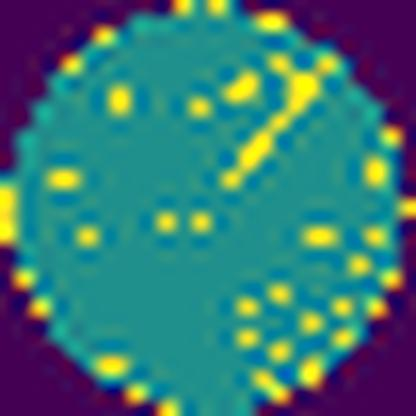Scratch: (218, 49, 323, 197)
